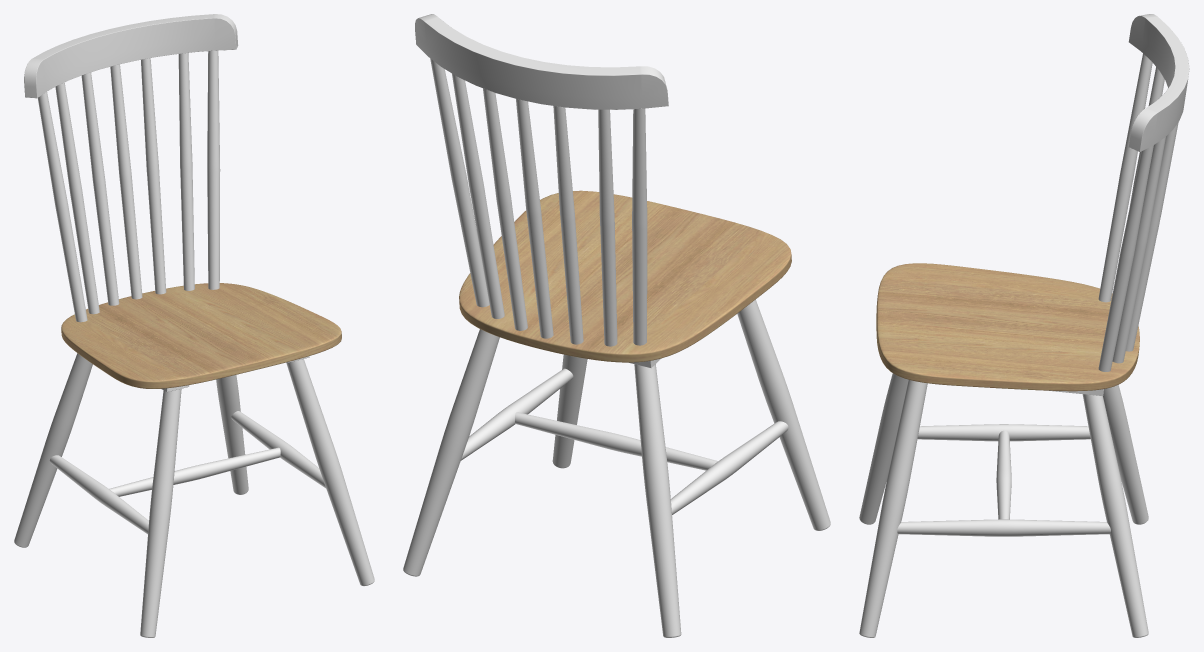
The model's file is chair_12_02.001.fbx.
3 views of the same model, side by side, from view 1: azimuth 30°, elevation 25°; view 2: azimuth 150°, elevation 25°; view 3: azimuth 270°, elevation 25° (orthographic). The views are drawn at different scales.
Visible parts, largest first — view 1: chair_12_02.001; view 2: chair_12_02.001; view 3: chair_12_02.001.
Part boxes in pixels (x1,y1,x2,y2): chair_12_02.001: [14, 14, 374, 637]; chair_12_02.001: [403, 14, 830, 637]; chair_12_02.001: [859, 14, 1189, 637].
Bounding box in the file's own units: 45.05 × 88.57 × 51.27.
1 material, 1 textured.
